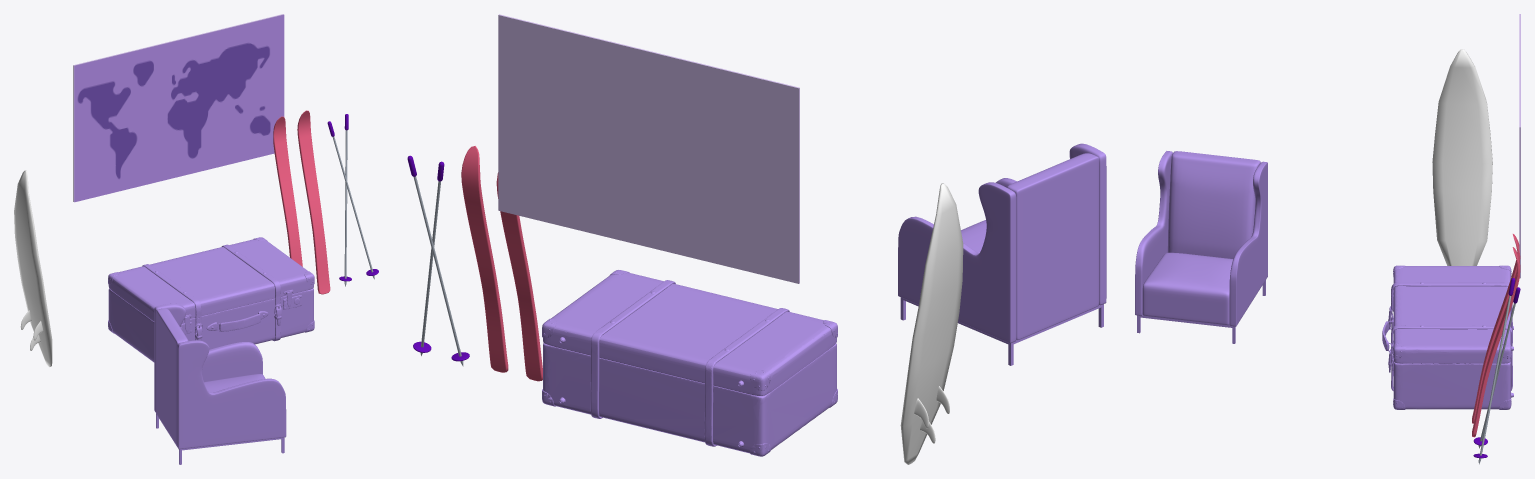
The model's file is scene1-static-output-1.gltf.
3 views of the same model, side by side, from view 1: azimuth 30°, elevation 25°; view 2: azimuth 150°, elevation 25°; view 3: azimuth 270°, elevation 25° (orthographic). The views are drawn at different scales.
Visible parts, largest first — view 1: Map, Oldfashion SuitCase, side_002, Plane, back_001, side_001, Ski.1, Ski, Cone+Cylinder (×2), MapBase, seat_001, legs; view 2: MapBase, Oldfashion SuitCase, back_001, side_001, Plane, Ski.1, Ski, side_002, legs; view 3: Oldfashion SuitCase, Plane, back_001, seat_001, side_001, side_002, Ski.1, Ski, MapBase, Cone+Cylinder, legs.
Boxes of the visible parts, x1,y1,x2,y2 form: Map: [74, 15, 284, 202]; Oldfashion SuitCase: [108, 237, 314, 362]; side_002: [177, 340, 286, 449]; Plane: [14, 170, 52, 366]; back_001: [156, 308, 188, 445]; side_001: [154, 303, 262, 412]; Ski.1: [297, 110, 330, 294]; Ski: [273, 116, 302, 266]; Cone+Cylinder (×2): [332, 130, 374, 286]; MapBase: [73, 14, 283, 201]; seat_001: [204, 374, 265, 392]; legs: [156, 413, 284, 464]; MapBase: [498, 14, 799, 283]; Oldfashion SuitCase: [542, 270, 837, 456]; back_001: [1006, 153, 1098, 339]; side_001: [898, 182, 1016, 343]; Plane: [900, 183, 963, 464]; Ski.1: [461, 146, 508, 372]; Ski: [496, 172, 542, 381]; side_002: [996, 143, 1106, 305]; legs: [900, 297, 1103, 365]; Oldfashion SuitCase: [1382, 265, 1513, 409]; Plane: [1432, 49, 1492, 265]; back_001: [1167, 151, 1260, 258]; seat_001: [1142, 252, 1232, 325]; side_001: [1229, 161, 1267, 326]; side_002: [1135, 151, 1172, 315]; Ski.1: [1472, 247, 1520, 437]; Ski: [1472, 234, 1520, 423]; MapBase: [1519, 14, 1520, 278]; Cone+Cylinder: [1478, 295, 1511, 464]; legs: [1137, 280, 1265, 343].
Bounding box in the file's own units: 644 × 456 × 533.
10 materials, 1 textured.
